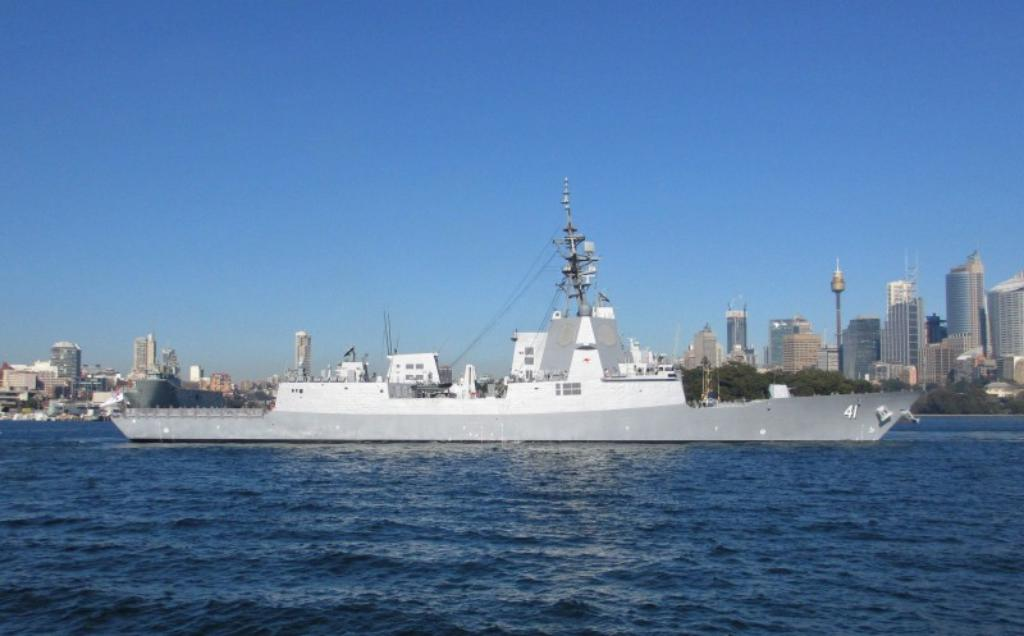Warship: (104, 177, 926, 444)
